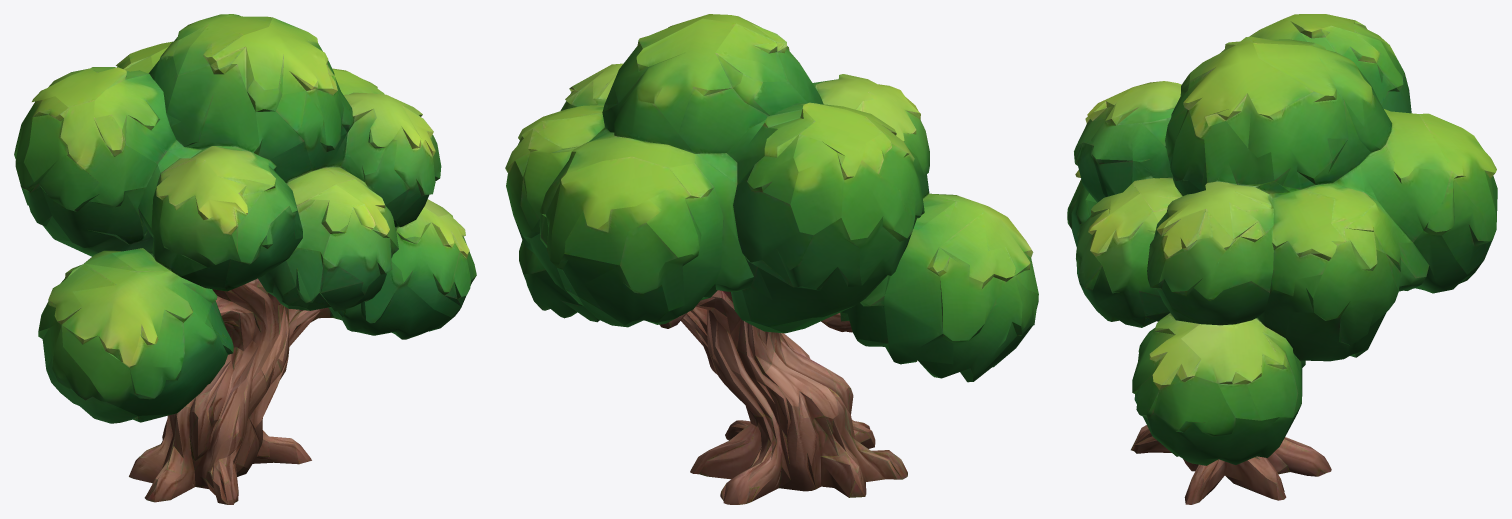
File: tree.glb
The picture shows the model from 3 angles, left to right: view 1: azimuth 30°, elevation 25°; view 2: azimuth 150°, elevation 25°; view 3: azimuth 270°, elevation 25°; orthographic projection. The views are drawn at different scales.
Bounding box in the file's own units: 1.9 × 1.72 × 1.52.
1 material, 1 textured.
